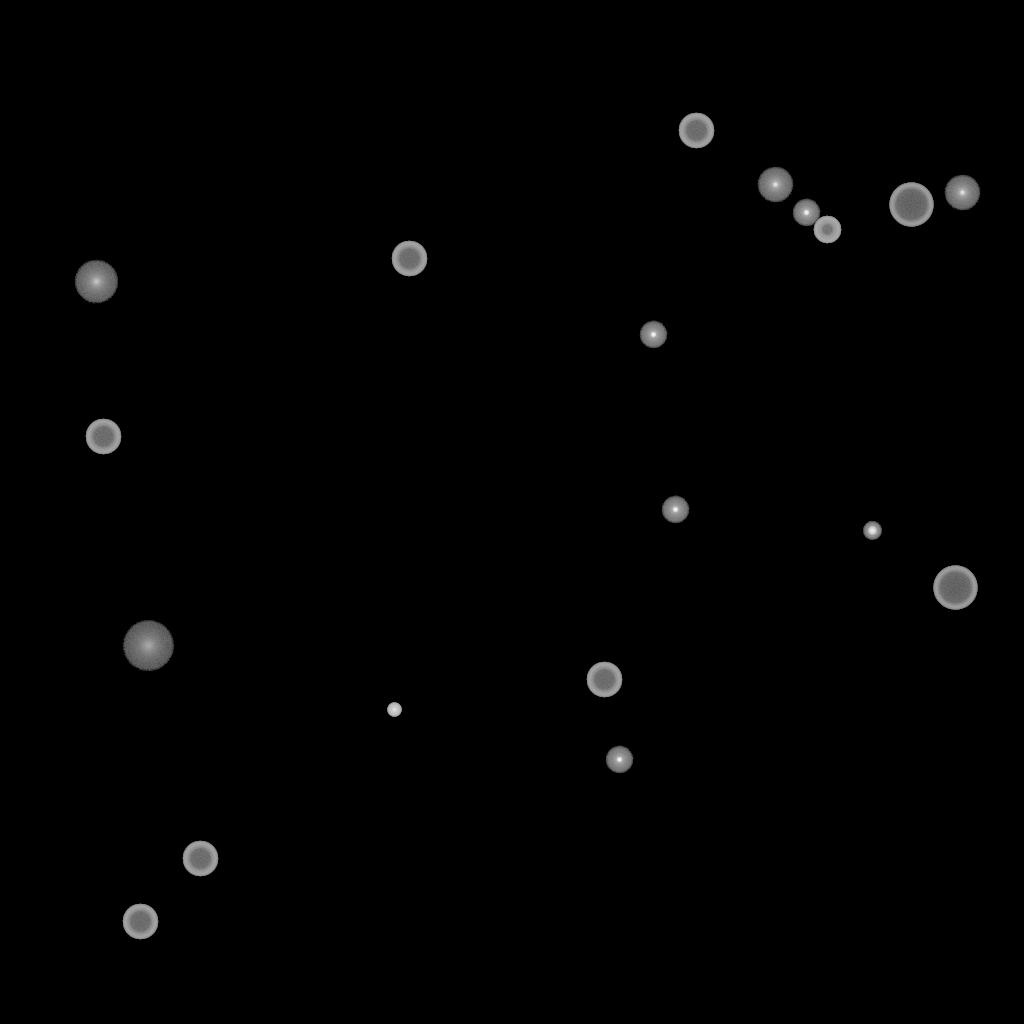depth:-10: (792, 199, 820, 227), (605, 746, 633, 774), (639, 321, 667, 349), (661, 496, 689, 524)
depth:-20: (863, 522, 881, 540)
depth:-30: (387, 703, 401, 717)
depth:-50: (813, 216, 841, 244)
depth:-60: (85, 419, 121, 455), (391, 241, 427, 277), (122, 904, 158, 940), (182, 841, 218, 877), (586, 662, 622, 698), (678, 113, 714, 149)
depth:-70: (933, 566, 977, 610), (889, 183, 933, 227)
depth:0: (757, 167, 793, 203), (944, 175, 980, 211)
depth:10: (74, 260, 118, 304)
depth:20: (122, 621, 174, 671)
